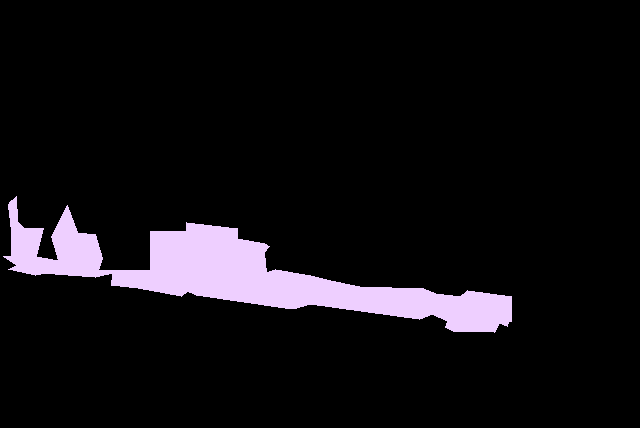Train: (3, 196, 512, 332)
